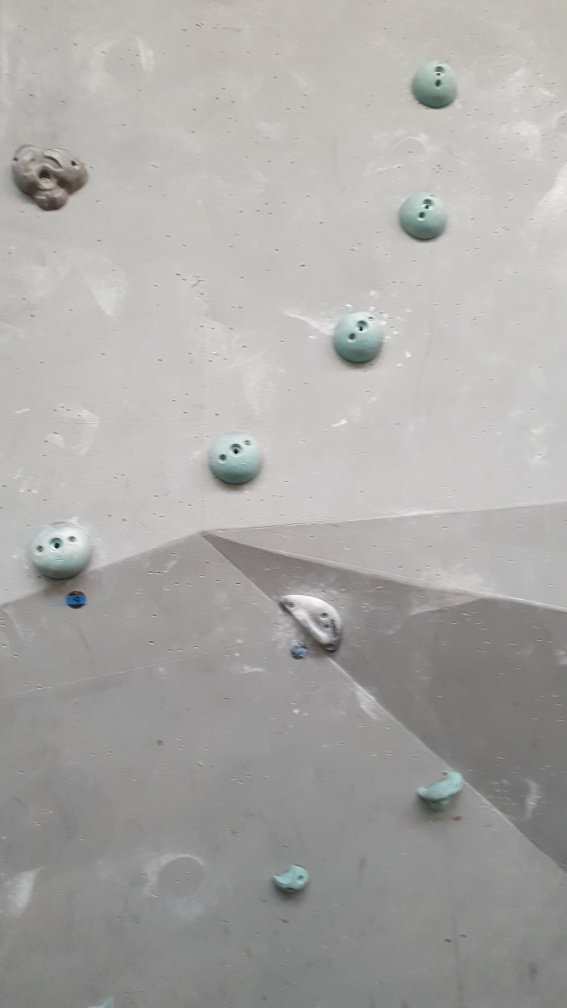Hand Start: (65, 589, 88, 611), (291, 643, 311, 660)
Jug: (13, 140, 91, 214), (415, 768, 465, 813)
Sloper: (33, 520, 93, 581), (207, 432, 266, 489), (331, 308, 385, 367), (397, 190, 450, 245), (413, 60, 459, 111)
